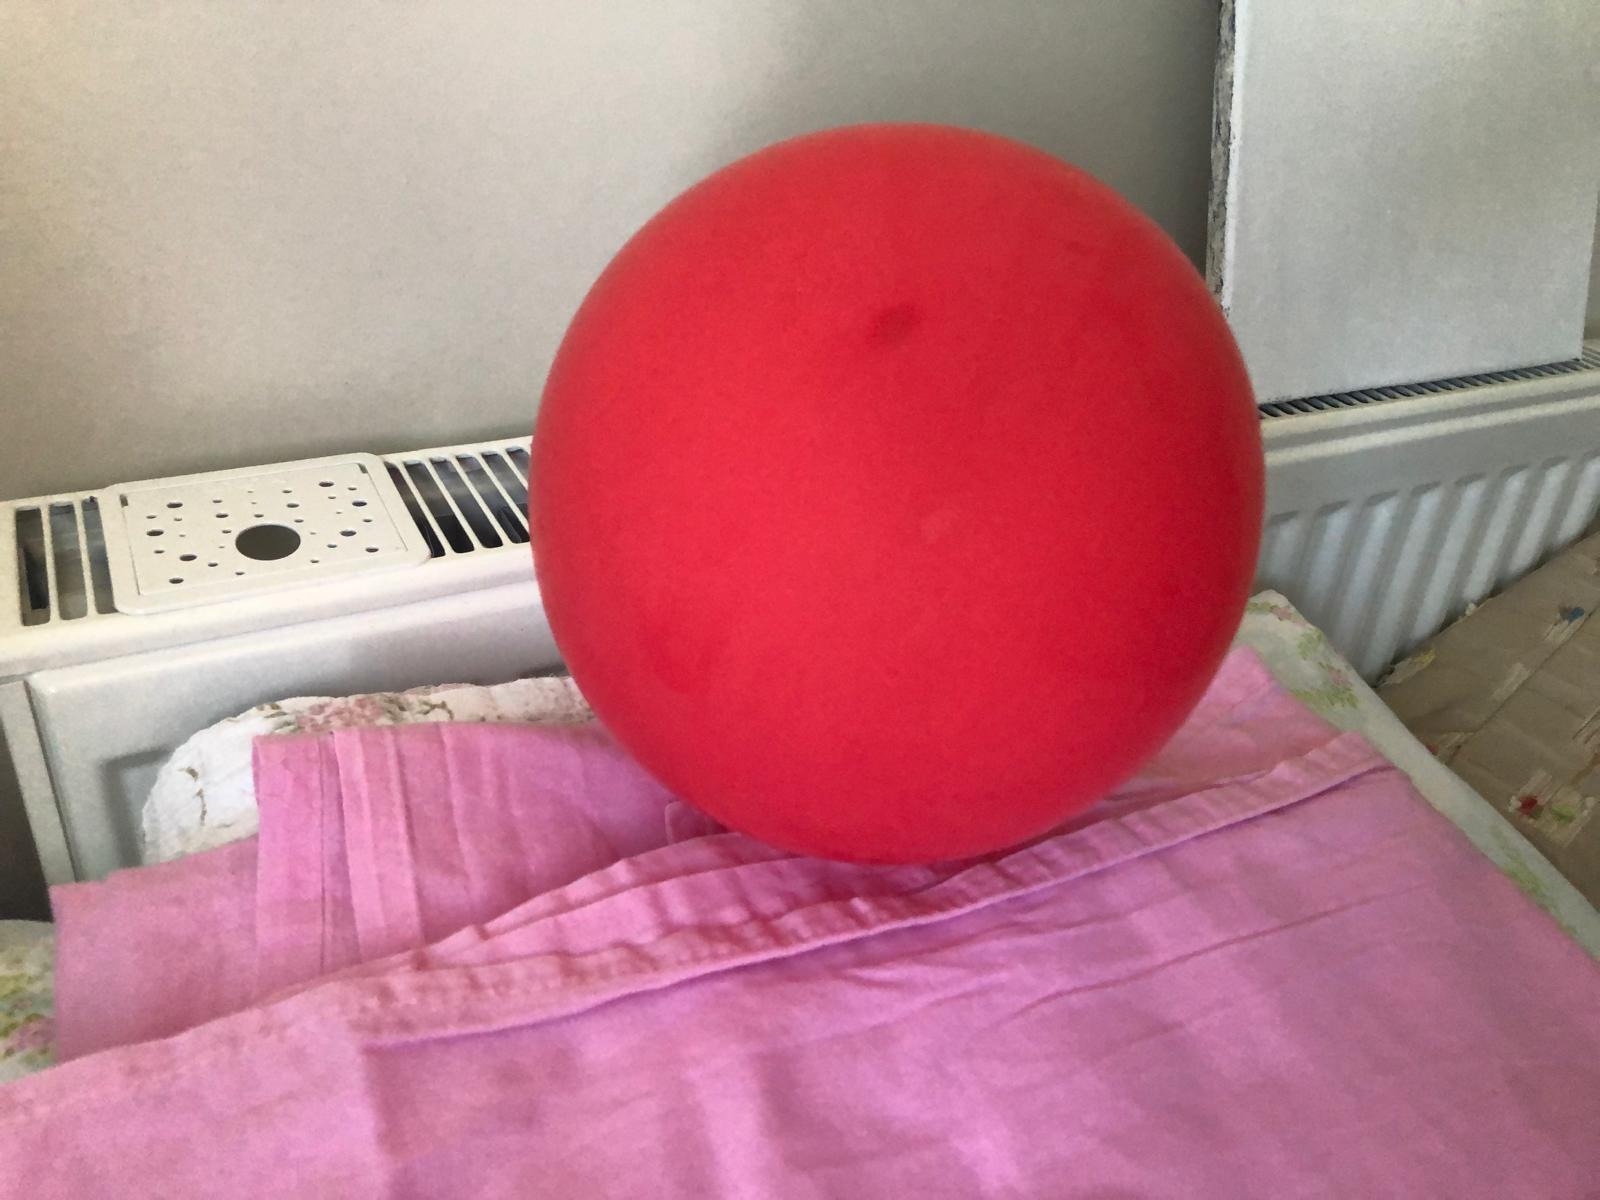red: (523, 116, 1267, 868)
